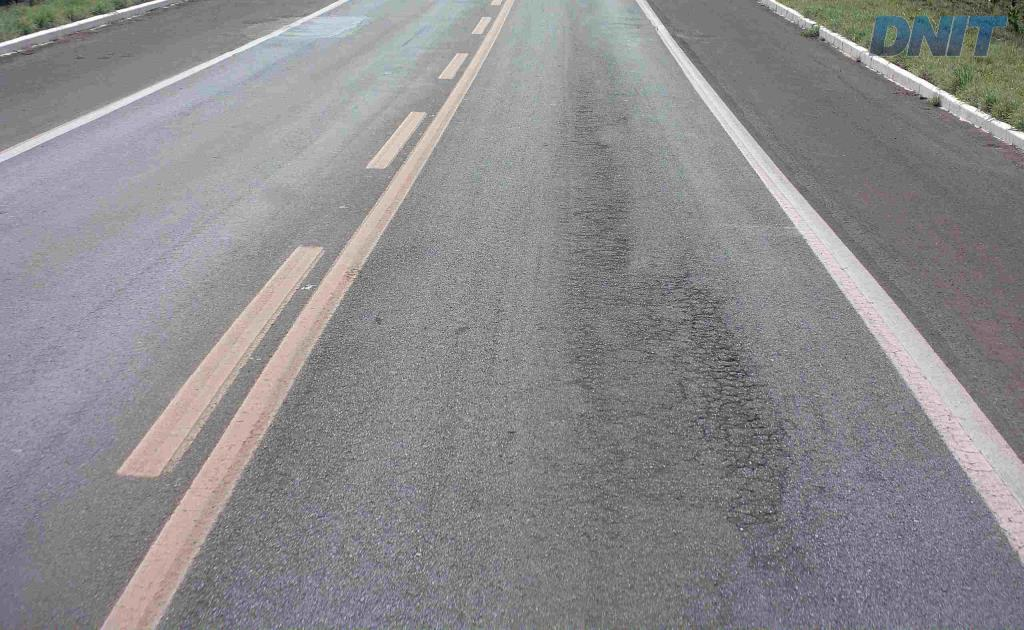crack: (690, 324, 749, 382), (700, 392, 769, 432)
